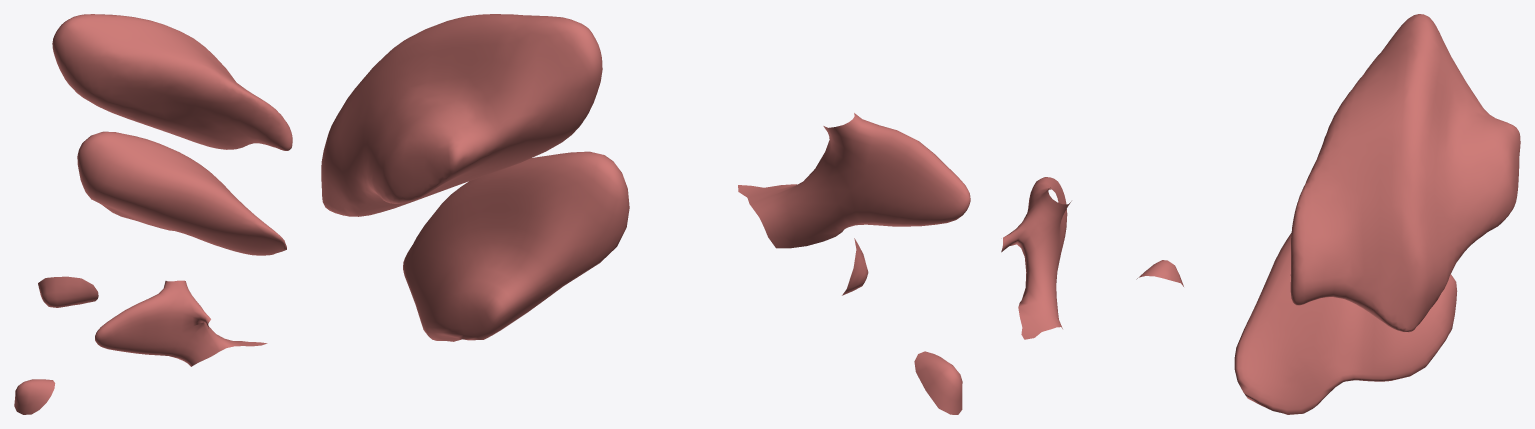
Rendered from hra-female-cardiac-muscular-01.glb.
The picture shows the model from 3 angles, left to right: view 1: azimuth 30°, elevation 25°; view 2: azimuth 150°, elevation 25°; view 3: azimuth 270°, elevation 25°; orthographic projection. The views are drawn at different scales.
Visible parts, largest first — view 1: VH_F_papillary_muscle_of_heart_antlat, VH_F_papillary_muscle_of_heart_posmed, VH_F_papillary_muscle_of_heart_ant, VH_F_papillary_muscle_of_heart_med, VH_F_papillary_muscle_of_heart_pos; view 2: VH_F_papillary_muscle_of_heart_antlat, VH_F_papillary_muscle_of_heart_posmed, VH_F_papillary_muscle_of_heart_ant, VH_F_papillary_muscle_of_heart_pos, VH_F_papillary_muscle_of_heart_med; view 3: VH_F_papillary_muscle_of_heart_antlat, VH_F_papillary_muscle_of_heart_posmed, VH_F_papillary_muscle_of_heart_ant, VH_F_papillary_muscle_of_heart_pos.
Boxes of the visible parts, x1,y1,x2,y2 form: VH_F_papillary_muscle_of_heart_antlat: (52, 14, 292, 150); VH_F_papillary_muscle_of_heart_posmed: (77, 131, 286, 255); VH_F_papillary_muscle_of_heart_ant: (95, 280, 267, 366); VH_F_papillary_muscle_of_heart_med: (38, 276, 98, 307); VH_F_papillary_muscle_of_heart_pos: (14, 379, 55, 414); VH_F_papillary_muscle_of_heart_antlat: (321, 14, 602, 216); VH_F_papillary_muscle_of_heart_posmed: (403, 151, 629, 341); VH_F_papillary_muscle_of_heart_ant: (738, 113, 970, 248); VH_F_papillary_muscle_of_heart_pos: (914, 351, 962, 414); VH_F_papillary_muscle_of_heart_med: (842, 238, 868, 295); VH_F_papillary_muscle_of_heart_antlat: (1290, 14, 1520, 332); VH_F_papillary_muscle_of_heart_posmed: (1234, 233, 1457, 414); VH_F_papillary_muscle_of_heart_ant: (1001, 177, 1071, 339); VH_F_papillary_muscle_of_heart_pos: (1136, 260, 1183, 286).
Size of the model in its own units: 0.0615 by 0.0517 by 0.0647.
